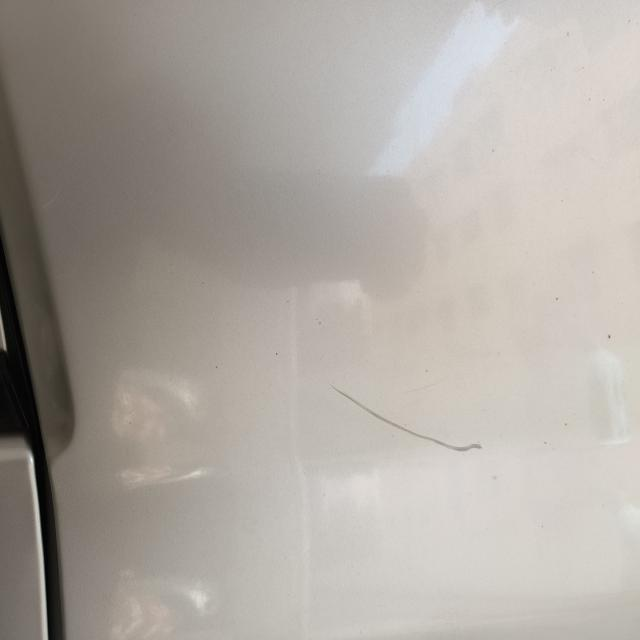scratch: (321, 379, 484, 463)
